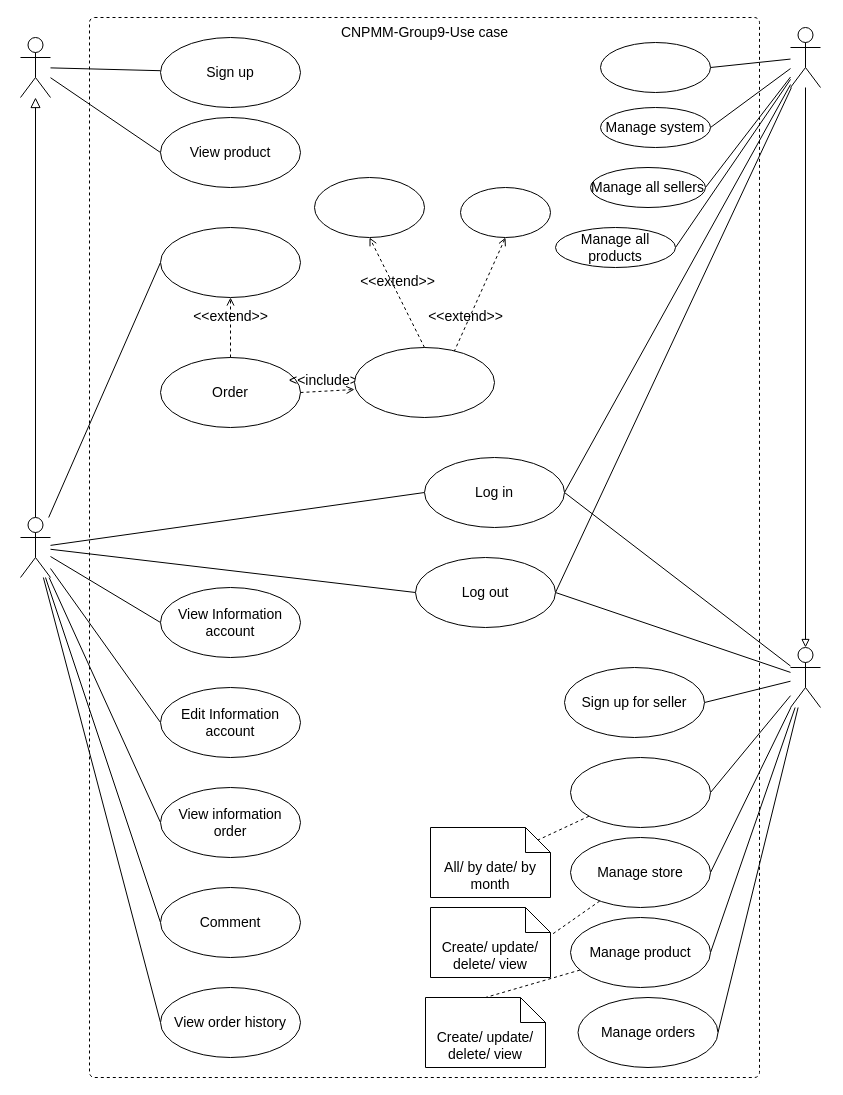
The diagram is 843 pixels wide and 1095 high, and some of its shapes have lost their labels. The centre of each missing label's shape, as x and y in pixels:
Add product to cart: point (230, 262)
Admin: point (805, 57)
Cash On Delivery: point (369, 207)
Guest: point (35, 67)
Manage all users: point (655, 67)
Pay: point (424, 382)
Pay by credit card: point (505, 212)
Seller: point (805, 677)
Static: point (640, 792)
User: point (35, 547)
